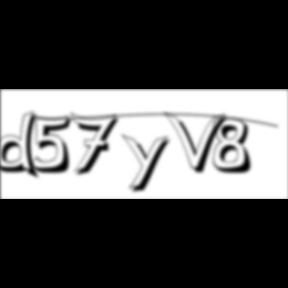5: (30, 114, 78, 176)
7: (70, 111, 124, 179)
8: (214, 117, 258, 176)
V: (164, 110, 232, 176)
d: (0, 110, 46, 182)
y: (122, 132, 176, 196)
